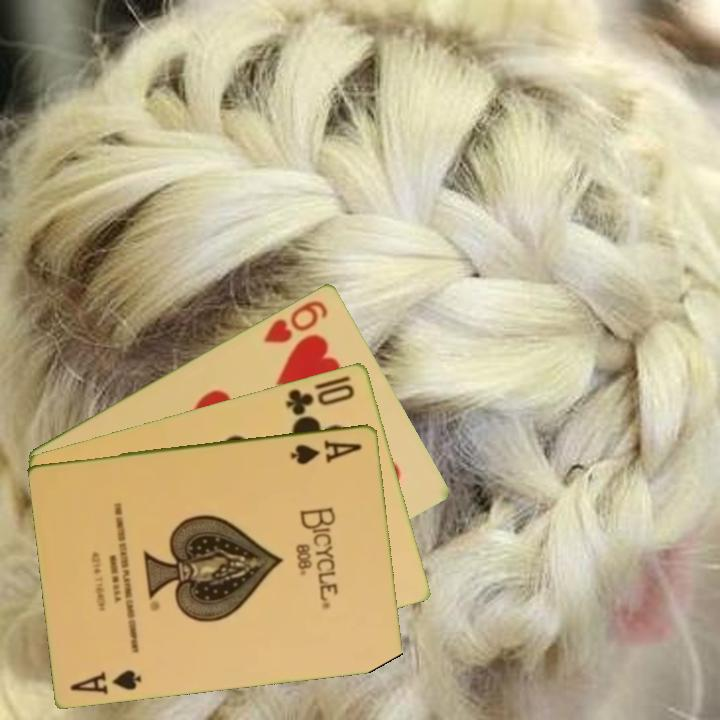10c: (282, 380, 358, 418)
6h: (260, 296, 331, 346)
As: (67, 665, 145, 697), (288, 436, 365, 467)
